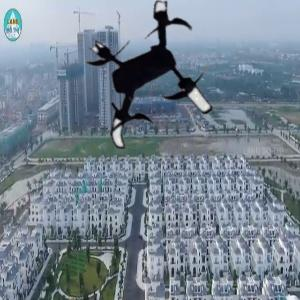drone: (76, 4, 233, 161)
